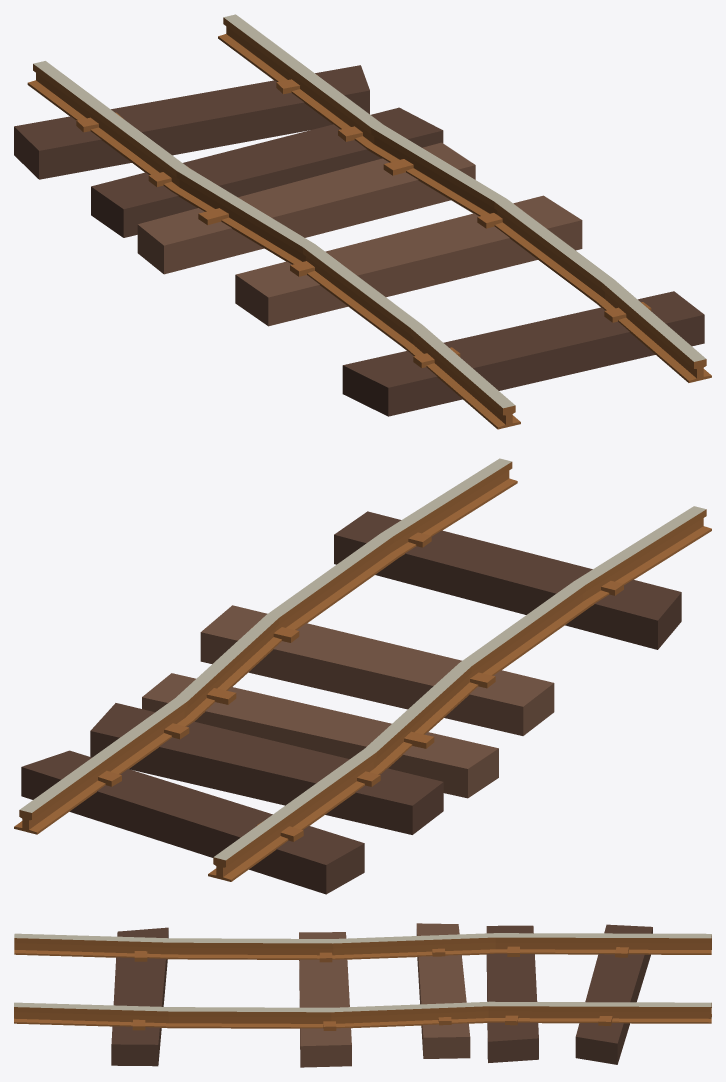
Rendered from Train Track 6 M Jiggle V02.glb.
3 views of the same model, one above another, from view 1: azimuth 30°, elevation 25°; view 2: azimuth 150°, elevation 25°; view 3: azimuth 270°, elevation 25° (orthographic). The views are drawn at different scales.
Visible parts, largest first — view 1: Train Track 6 M Jiggle v02; view 2: Train Track 6 M Jiggle v02; view 3: Train Track 6 M Jiggle v02.
Boxes of the visible parts, <box> form: Train Track 6 M Jiggle v02: <box>14,14,711,429</box>; Train Track 6 M Jiggle v02: <box>14,458,711,894</box>; Train Track 6 M Jiggle v02: <box>14,923,711,1067</box>.
Size of what is drawn, in the model's own units: 2.5 by 0.3385 by 6.
1 material, 1 textured.
